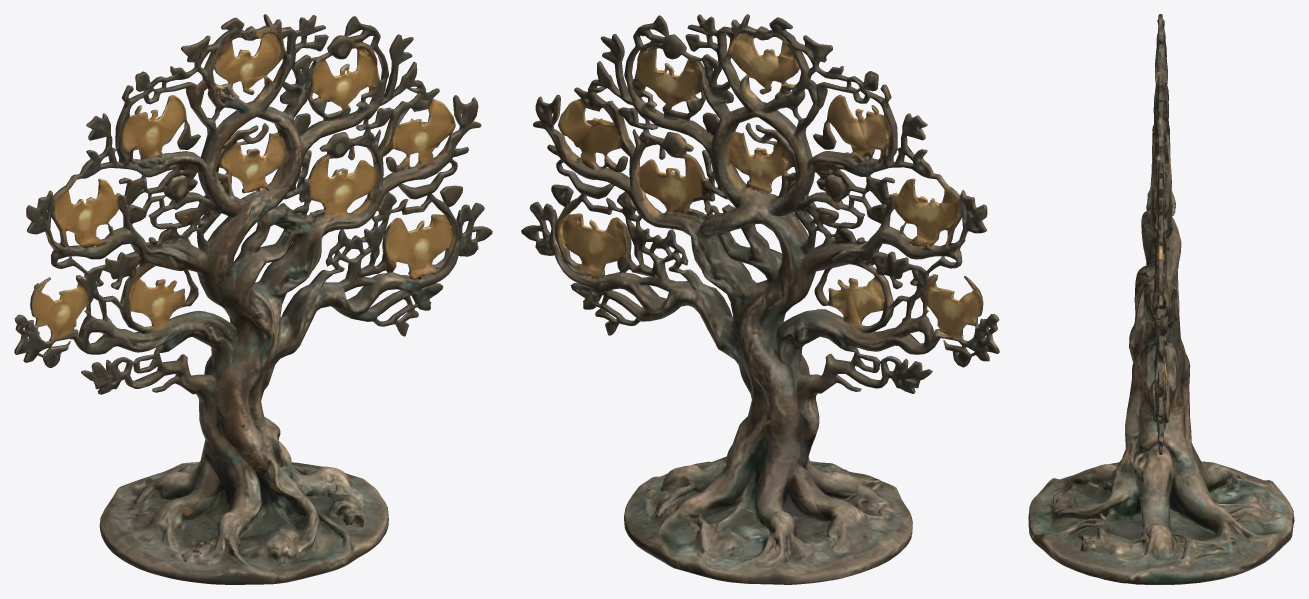
Rendered from fusang-tree.glb.
The picture shows the model from 3 angles, left to right: view 1: azimuth 30°, elevation 25°; view 2: azimuth 150°, elevation 25°; view 3: azimuth 270°, elevation 25°; orthographic projection. The views are drawn at different scales.
Parts seen in each view (by area): view 1: geometry_0; view 2: geometry_0; view 3: geometry_0.
Part boxes in pixels (box(x1,y1,x2,y2)): geometry_0: box(14, 14, 492, 584); geometry_0: box(521, 14, 999, 584); geometry_0: box(1028, 14, 1294, 584).
Bounding box in the file's own units: 0.5091 × 0.52 × 0.2544.
1 material, 1 textured.
